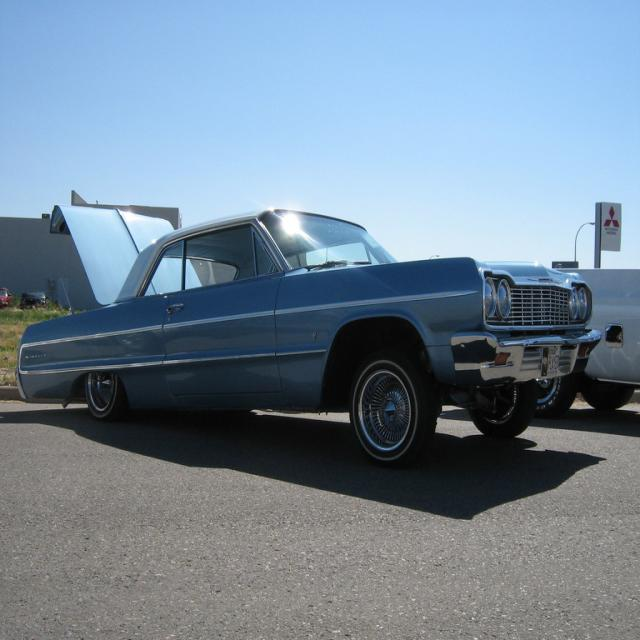car: (13, 203, 601, 465)
